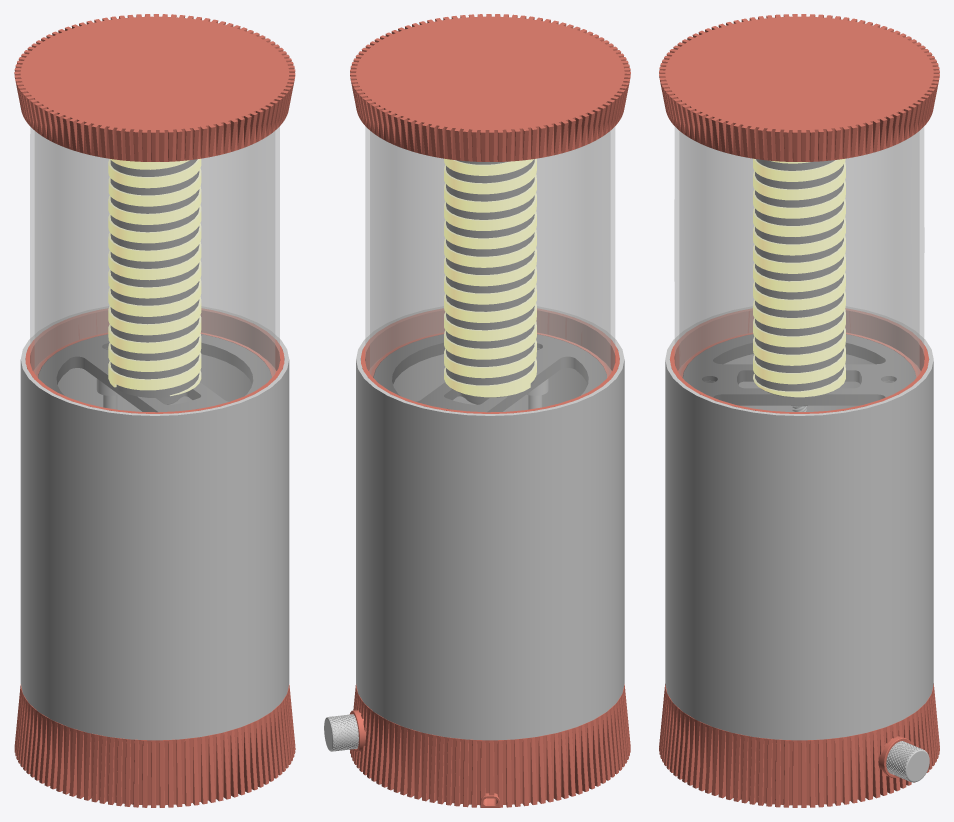
The model's file is lamp_open.glb.
3 views of the same model, side by side, from view 1: azimuth 30°, elevation 25°; view 2: azimuth 150°, elevation 25°; view 3: azimuth 270°, elevation 25° (orthographic).
Parts seen in each view (by area): view 1: lamp_open; view 2: lamp_open; view 3: lamp_open.
Boxes of the visible parts, <box> form: lamp_open: <box>14,14,295,807</box>; lamp_open: <box>324,14,630,807</box>; lamp_open: <box>659,14,939,807</box>.
Size of the model in its own units: 15.7 by 41.62 by 15.7.
